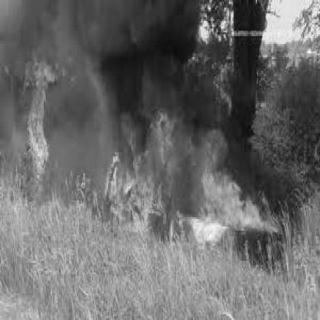Fire: (91, 72, 285, 258)
Smoke: (73, 0, 211, 122)
